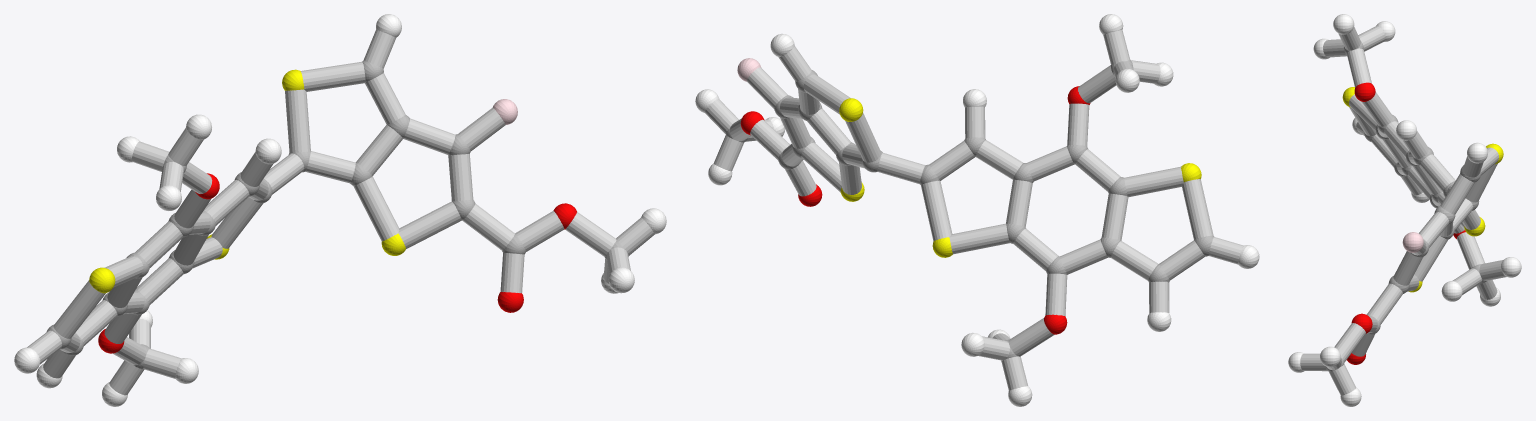
Rendered from Dimethoxy_Benzodithiophene_Phi_30_Theta_290_Methylcarbonyl_3_Fluoro_Thienothiophene.glb.
3 views of the same model, side by side, from view 1: azimuth 30°, elevation 25°; view 2: azimuth 150°, elevation 25°; view 3: azimuth 270°, elevation 25° (orthographic). The views are drawn at different scales.
Visible parts, largest first — view 1: grp15205, grp8689, grp1, grp13395, grp7241; view 2: grp15205, grp8689, grp1, grp7241, grp13395; view 3: grp15205, grp8689, grp1, grp13395, grp7241, grp14843.
Part boxes in pixels (x1,y1,x2,y2): grp15205: [27, 29, 654, 395]; grp8689: [14, 14, 666, 406]; grp1: [46, 60, 628, 369]; grp13395: [98, 173, 576, 353]; grp7241: [89, 69, 405, 293]; grp15205: [704, 30, 1243, 390]; grp8689: [695, 14, 1259, 406]; grp1: [726, 60, 1213, 358]; grp7241: [839, 98, 1201, 257]; grp13395: [740, 86, 1090, 334]; grp15205: [1300, 26, 1506, 395]; grp8689: [1288, 14, 1521, 406]; grp1: [1325, 41, 1486, 371]; grp13395: [1347, 82, 1465, 364]; grp7241: [1342, 87, 1503, 292]; grp14843: [1402, 232, 1423, 252].
Bounding box in the file's own units: 16.6 × 9.05 × 6.65.
